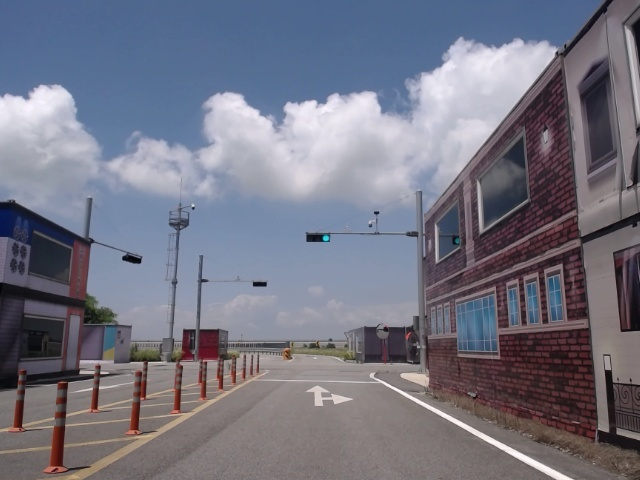green_3: (307, 235, 330, 241)
